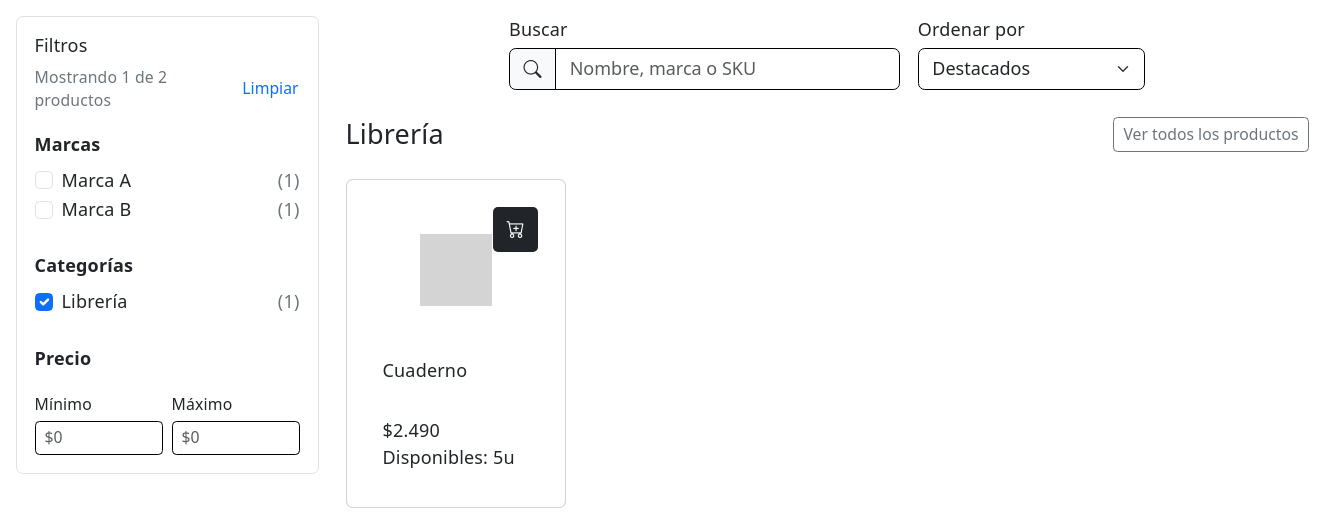
Test: Products › Ver todos los productos limpia el filtro de categoría
The image size is (1326, 525).
Check: the heading "Cuaderno" is shown, box [382,358,467,382]
Click the button "Ver todos los productos": (1211, 134) [1113,117,1308,152]
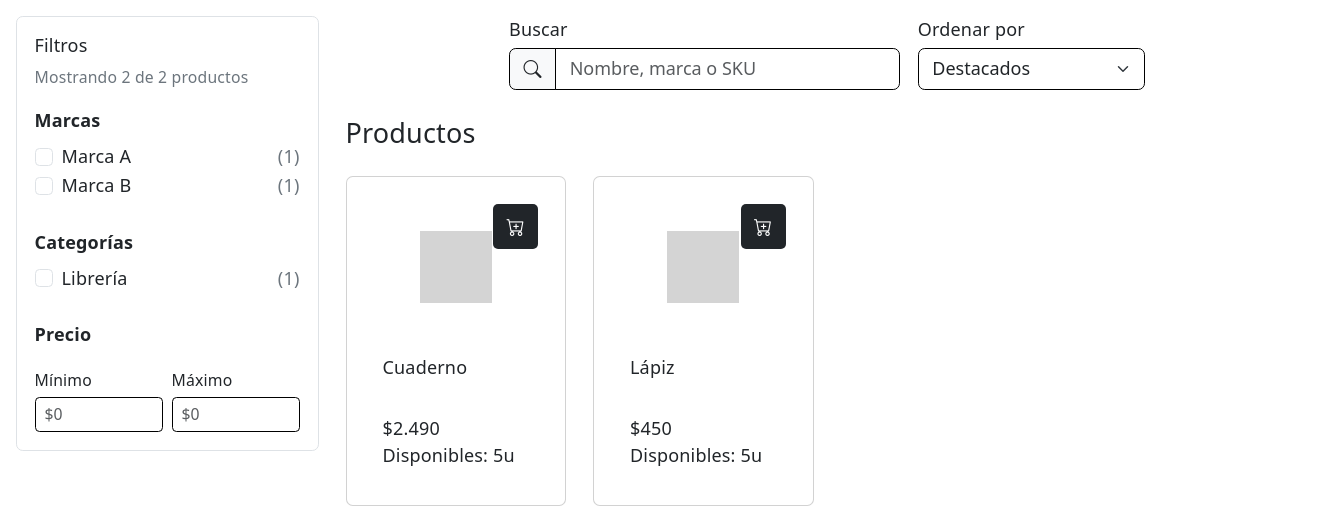
Check: the heading "Productos" is shown, box [346,117,476,149]
Check: the button "Ver todos los productos" is gone
Check: the heading "Lápiz" is shown, box [630,355,675,379]
